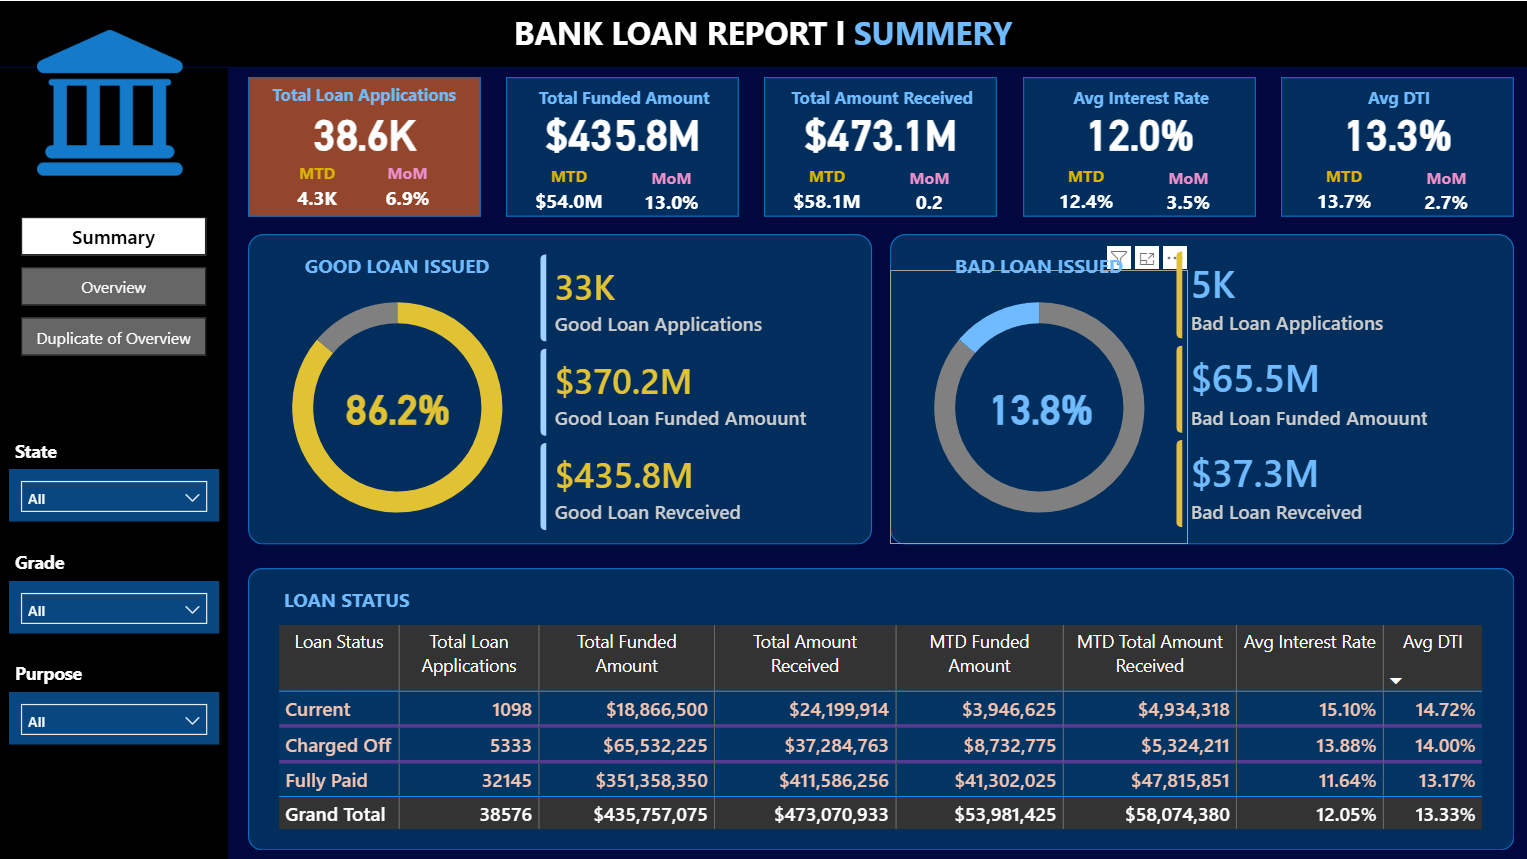

The dashboard page shown, as its layout file describes it:
{"tool":"powerbi","page":{"name":"Summary","canvas":[1280,720],"ordinal":0},"visuals":[{"type":"shape","box":[0,55.7,191.4,664.3],"z":0},{"type":"shape","box":[207.5,63.8,195,117],"z":0,"group":"g1"},{"type":"shape","box":[423.8,63.8,195,117],"z":0,"group":"g2"},{"type":"shape","box":[640,63.8,195,117],"z":0,"group":"g3"},{"type":"shape","box":[856.2,63.8,195,117],"z":0,"group":"g4"},{"type":"shape","box":[1072.5,63.8,195,117],"z":0,"group":"g5"},{"type":"shape","box":[0,0,1280,55],"z":1000},{"type":"card","fields":{"Values":["Measure.Total Loan Applications"]},"box":[232.5,82.6,145,55],"z":1000,"group":"g1"},{"type":"card","fields":{"Values":["Measure.Total Funded Amount"]},"box":[448.8,82.6,145,55],"z":1000,"group":"g2"},{"type":"card","fields":{"Values":["Measure.Total Amount Received"]},"box":[665,82.6,145,55],"z":1000,"group":"g3"},{"type":"card","fields":{"Values":["Measure.Avg Interest Rate"]},"box":[881.2,82.6,145,55],"z":1000,"group":"g4"},{"type":"card","fields":{"Values":["Measure.Avg DTI"]},"box":[1097.5,82.6,145,55],"z":1000,"group":"g5"},{"type":"textbox","box":[221.3,63.8,167.5,37.5],"z":2000,"group":"g1"},{"type":"textbox","box":[438.8,66.3,167.5,37.5],"z":2000,"group":"g2"},{"type":"textbox","box":[655,66.3,167.5,37.5],"z":2000,"group":"g3"},{"type":"textbox","box":[871.2,66.3,167.5,37.5],"z":2000,"group":"g4"},{"type":"textbox","box":[1087.5,66.3,167.5,37.5],"z":2000,"group":"g5"},{"type":"shape","box":[207.5,195,522.5,260],"z":2000},{"type":"card","title":"MTD","fields":{"Values":["Measure.MTD Loan Applications"]},"box":[243.7,135,43.8,46.2],"z":3000,"group":"g1"},{"type":"card","title":"MTD","fields":{"Values":["Measure.MTD Funded Amount"]},"box":[435,137.6,83.8,47.5],"z":3000,"group":"g2"},{"type":"card","title":"MTD","fields":{"Values":["Measure.MTD Total Amount"]},"box":[651.2,137.6,83.8,47.5],"z":3000,"group":"g3"},{"type":"card","title":"MTD","fields":{"Values":["Measure.MTD Avg Int Rate"]},"box":[867.4,137.6,83.8,47.5],"z":3000,"group":"g4"},{"type":"card","title":"MTD","fields":{"Values":["Measure.MTD Avg DTI"]},"box":[1083.7,137.6,83.8,47.5],"z":3000,"group":"g5"},{"type":"card","fields":{"Values":["Measure.Good Loan %"]},"box":[260,312.5,145,55],"z":3000},{"type":"card","title":"MoM","fields":{"Values":["Measure.MoM Loan Applications"]},"box":[315,135,52.5,46.2],"z":4000,"group":"g1"},{"type":"card","title":"MoM","fields":{"Values":["Measure.MoM Total Funded Amount"]},"box":[531.3,138.8,62.5,45],"z":4000,"group":"g2"},{"type":"card","title":"MoM","fields":{"Values":["Measure.MoM Total Amount Recieved"]},"box":[747.5,138.8,62.5,45],"z":4000,"group":"g3"},{"type":"card","title":"MoM","fields":{"Values":["Measure.MoM Avg Int Rate"]},"box":[963.7,138.8,62.5,45],"z":4000,"group":"g4"},{"type":"card","title":"MoM","fields":{"Values":["Measure.MoM Avg DTI"]},"box":[1180,138.8,62.5,45],"z":4000,"group":"g5"},{"type":"textbox","box":[248.8,206.2,167.5,37.5],"z":4000},{"type":"textbox","box":[425,2.5,430,50],"z":5000},{"type":"group","id":"g1","title":"Group 1","box":[207.5,63.8,195,117.5],"z":6000},{"type":"group","id":"g2","title":"Group 1","box":[423.8,63.8,195,121.2],"z":7000},{"type":"group","id":"g3","title":"Group 1","box":[640,63.8,195,121.2],"z":8000},{"type":"group","id":"g4","title":"Group 1","box":[856.2,63.8,195,121.2],"z":9000},{"type":"group","id":"g5","title":"Group 1","box":[1072.5,63.8,195,121.2],"z":10000},{"type":"shape","box":[745,195,522.5,260],"z":11000},{"type":"donutChart","fields":{"Category":["bank_loan_data.Good V Bad Loan"],"Y":["Measure.Total Loan Applications"]},"box":[207.5,225,250,230],"z":12000},{"type":"cardVisual","fields":{"Data":["Measure.Good Loan Applications","Measure.Good Loan Funded Amouunt","Measure.Good Loan Revceived"]},"box":[435,195,300,265],"z":13000},{"type":"donutChart","fields":{"Category":["bank_loan_data.Good V Bad Loan"],"Y":["Measure.Total Loan Applications"]},"box":[745,225,250,230],"z":14000},{"type":"textbox","box":[786.2,206.2,167.5,37.5],"z":15000},{"type":"card","fields":{"Values":["Measure.Bad Loan %"]},"box":[798.8,312.5,145,55],"z":16000},{"type":"cardVisual","fields":{"Data":["Measure.Bad Loan Applications","Measure.Bad Loan Funded Amouunt","Measure.Bad Loan Revceived"]},"box":[967.5,192.5,300,265],"z":17000},{"type":"shape","box":[207.3,474.6,1060.3,236.4],"z":18000},{"type":"tableEx","fields":{"Values":["bank_loan_data.loan_status","Measure.Total Loan Applications","Measure.Total Funded Amount","Measure.Total Amount Received","Measure.MTD Funded Amount","Measure.MTD Total Amount Received","Measure.Avg Interest Rate","Measure.Avg DTI"]},"box":[227.7,517.4,1019.7,183.3],"z":19000},{"type":"textbox","box":[232.7,485.6,175.8,37.7],"z":20000},{"type":"slicer","fields":{"Values":["bank_loan_data.address_state"]},"box":[7.5,391.8,175.8,43.5],"z":21000},{"type":"textbox","box":[7.5,361.7,46,30.1],"z":22000},{"type":"slicer","fields":{"Values":["bank_loan_data.grade"]},"box":[7.5,485.6,175.8,43.5],"z":23000},{"type":"textbox","box":[7.5,454.6,60.3,31],"z":24000},{"type":"slicer","fields":{"Values":["bank_loan_data.purpose"]},"box":[7.5,578.5,175.8,43.5],"z":25000},{"type":"textbox","box":[7.5,547.5,67.8,31],"z":26000},{"type":"image","box":[30.6,14,122.4,141.6],"z":27000},{"type":"pageNavigator","box":[17.6,180.8,155.7,118],"z":28000}]}

Visuals, with their boxes in screenshot pixels (x1, y1, x2, y2), scaled from the page's 1280x720 canvas onto the 1527x859 screenshot:
shape: [0,66,228,858]
shape: [248,76,480,216]
shape: [506,76,738,216]
shape: [764,76,996,216]
shape: [1021,76,1254,216]
shape: [1279,76,1512,216]
shape: [0,0,1526,66]
card - Measure.Total Loan Applications: [277,99,450,164]
card - Measure.Total Funded Amount: [535,99,708,164]
card - Measure.Total Amount Received: [793,99,966,164]
card - Measure.Avg Interest Rate: [1051,99,1224,164]
card - Measure.Avg DTI: [1309,99,1482,164]
textbox: [264,76,464,121]
textbox: [523,79,723,124]
textbox: [781,79,981,124]
textbox: [1039,79,1239,124]
textbox: [1297,79,1497,124]
shape: [248,233,871,543]
"MTD" card: [291,161,343,216]
"MTD" card: [519,164,619,221]
"MTD" card: [777,164,877,221]
"MTD" card: [1035,164,1135,221]
"MTD" card: [1293,164,1393,221]
card - Measure.Good Loan %: [310,373,483,438]
"MoM" card: [376,161,438,216]
"MoM" card: [634,166,708,219]
"MoM" card: [892,166,966,219]
"MoM" card: [1150,166,1224,219]
"MoM" card: [1408,166,1482,219]
textbox: [297,246,497,291]
textbox: [507,3,1020,63]
"Group 1" group: [248,76,480,216]
"Group 1" group: [506,76,738,221]
"Group 1" group: [764,76,996,221]
"Group 1" group: [1021,76,1254,221]
"Group 1" group: [1279,76,1512,221]
shape: [889,233,1512,543]
donutChart - bank_loan_data.Good V Bad Loan x Measure.Total Loan Applications: [248,268,546,543]
cardVisual - Measure.Good Loan Applications x Measure.Good Loan Funded Amouunt: [519,233,877,549]
donutChart - bank_loan_data.Good V Bad Loan x Measure.Total Loan Applications: [889,268,1187,543]
textbox: [938,246,1138,291]
card - Measure.Bad Loan %: [953,373,1126,438]
cardVisual - Measure.Bad Loan Applications x Measure.Bad Loan Funded Amouunt: [1154,230,1512,546]
shape: [247,566,1512,848]
tableEx - bank_loan_data.loan_status x Measure.Total Loan Applications: [272,617,1488,836]
textbox: [278,579,487,624]
slicer - bank_loan_data.address_state: [9,467,219,519]
textbox: [9,432,64,467]
slicer - bank_loan_data.grade: [9,579,219,631]
textbox: [9,542,81,579]
slicer - bank_loan_data.purpose: [9,690,219,742]
textbox: [9,653,90,690]
image: [37,17,183,186]
pageNavigator: [21,216,207,356]
